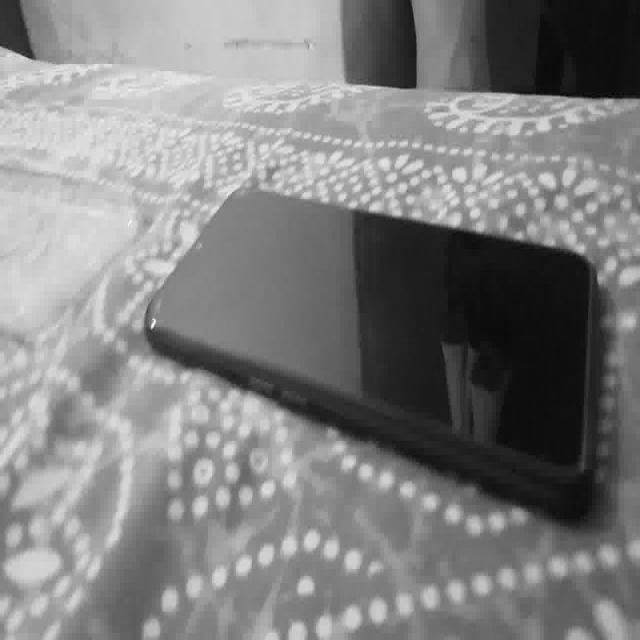fake: (144, 182, 602, 528)
